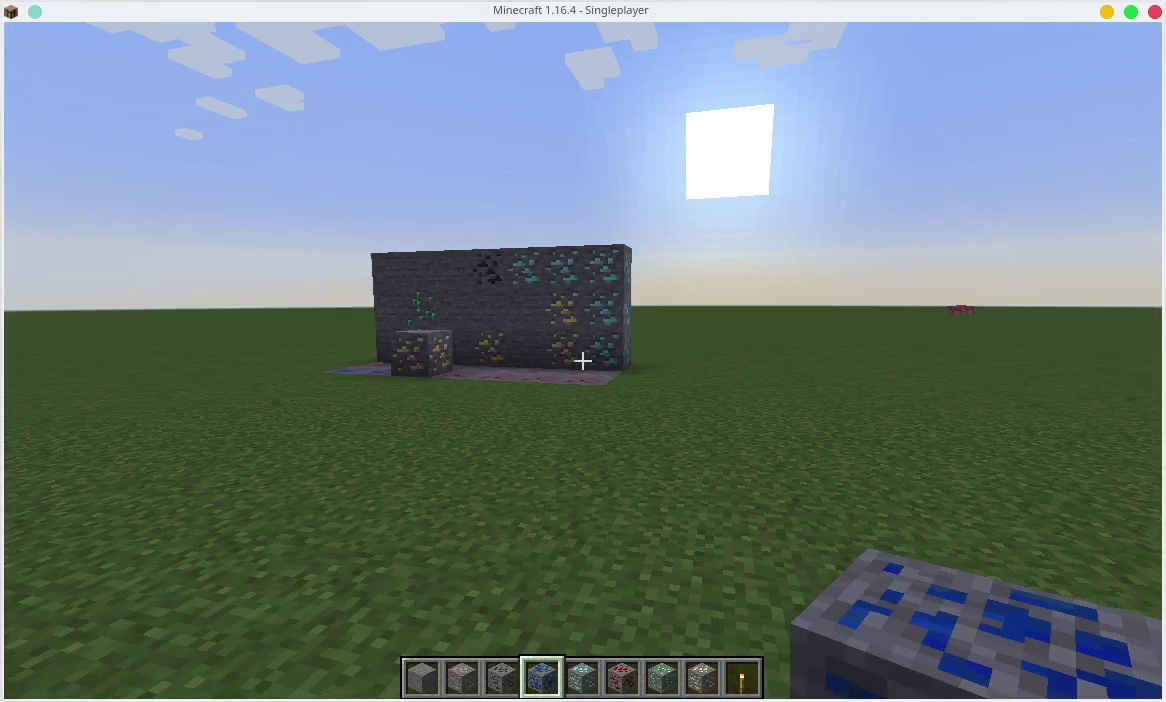gold: (393, 335, 448, 372), (470, 330, 517, 363), (541, 289, 575, 326), (540, 331, 577, 364), (688, 659, 714, 694)
